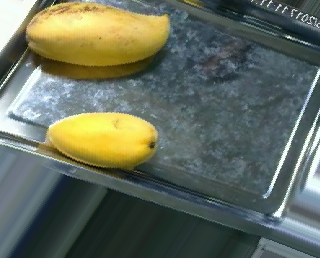Mango: (23, 1, 175, 72), (42, 103, 163, 178)
